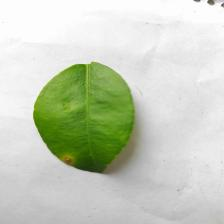canker: (52, 144, 88, 171)
